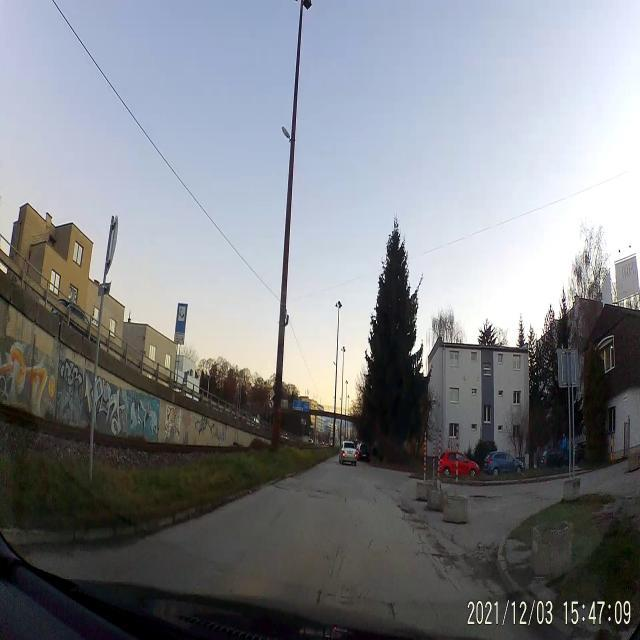Pothole: (432, 548, 456, 572), (396, 499, 414, 521), (468, 492, 498, 505), (316, 486, 330, 498)
